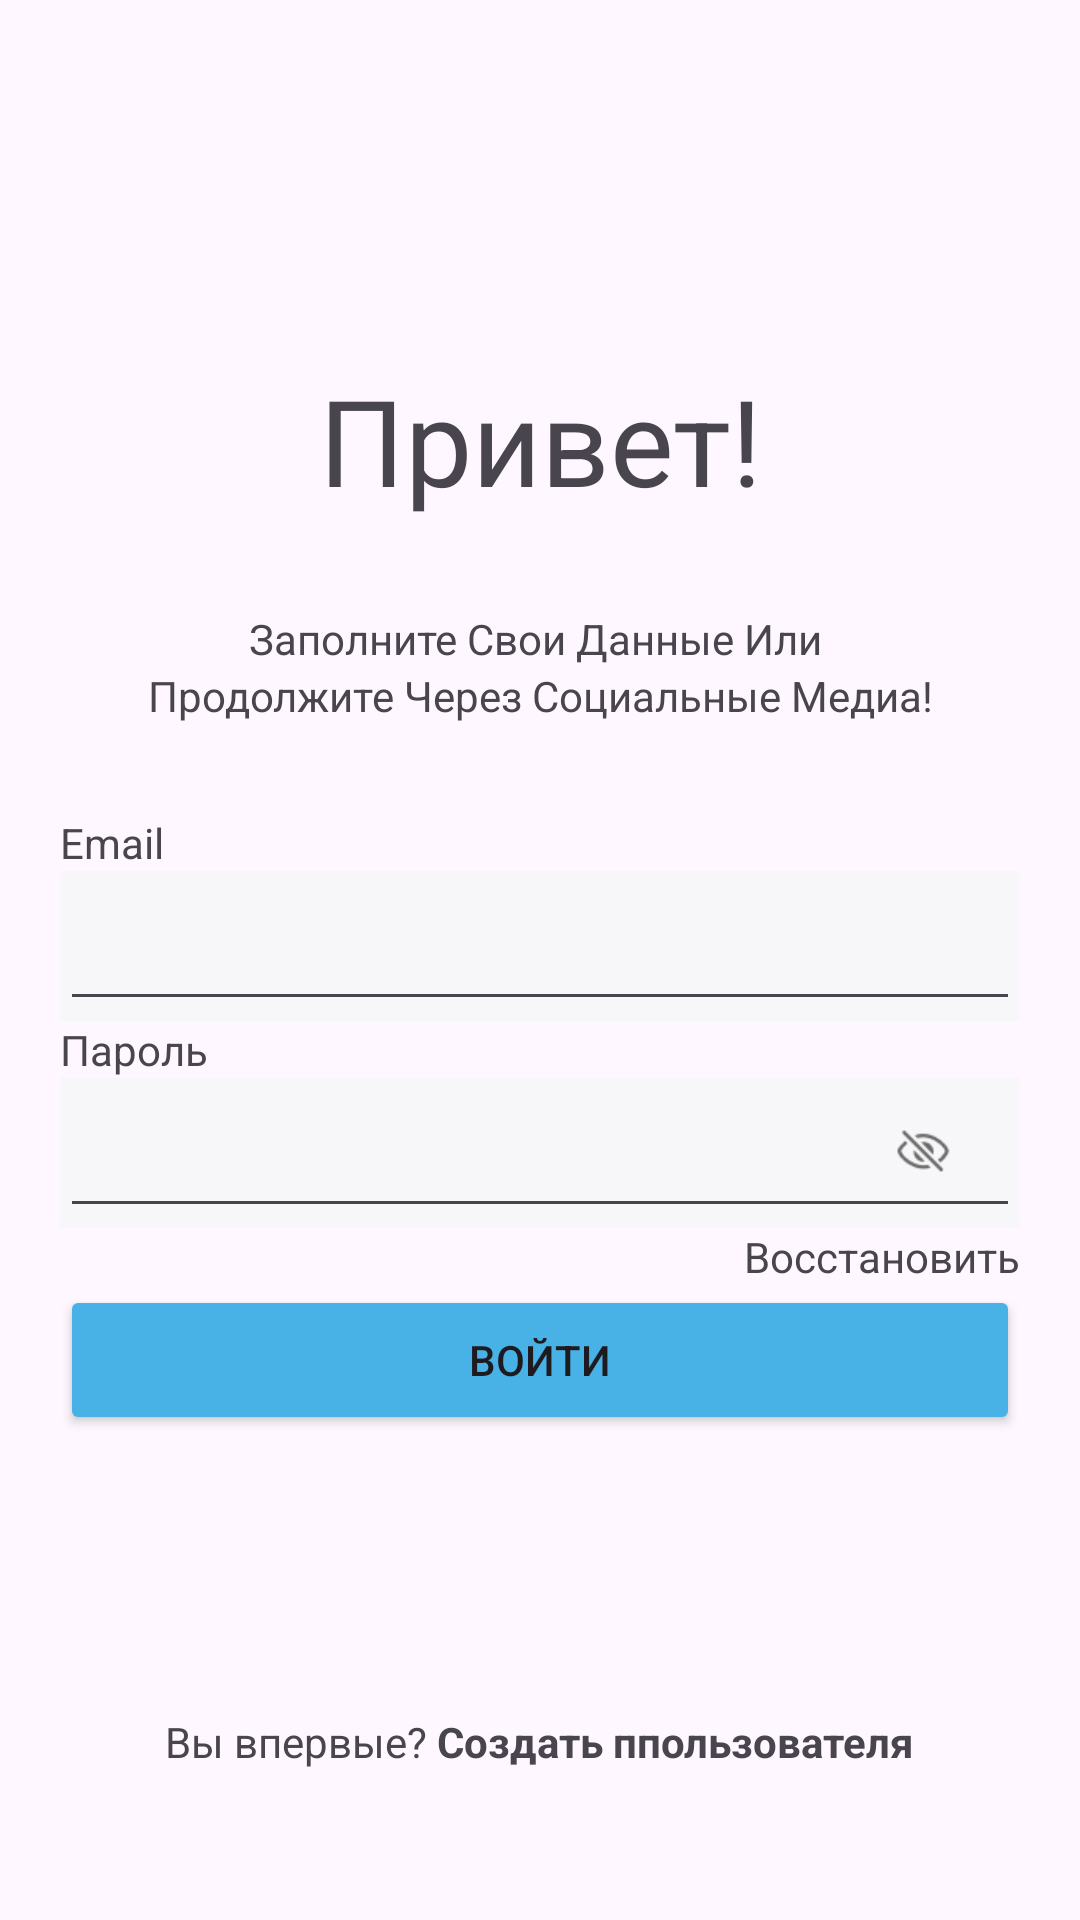

Screen size 1080 x 1920. Icon name, then its center in pixels as (x=x, y=y):
unvisible: (x=923, y=1151)
